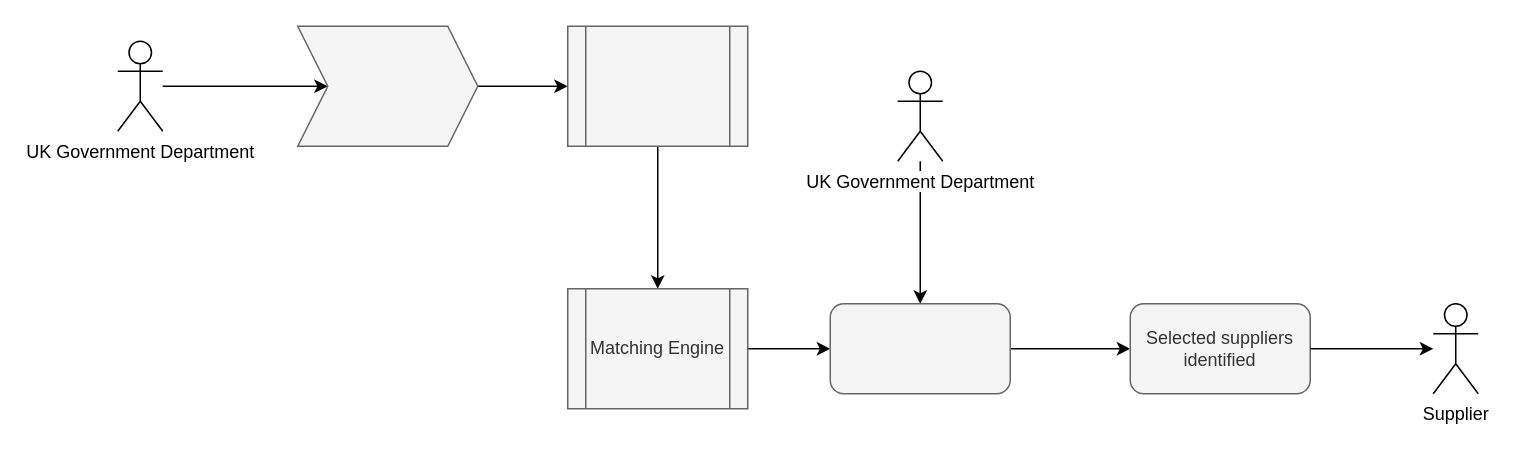
Image size: 1514x452. Some labels were removed from this diagram. The shapes that lost their labels are listed below. From the top down, each one's centre as x and y in pixels, then its label:
the point at 387,85: Raises request for Service
the point at 657,85: Request Analysed and broken down to an intelligent Graph
the point at 919,348: Result Set reviewed
